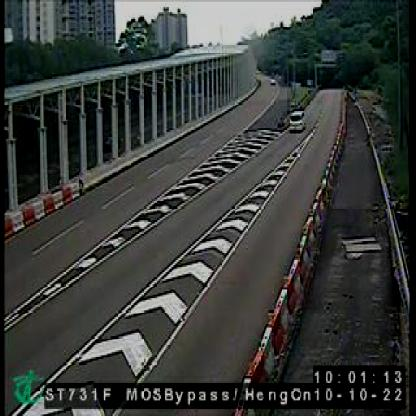Car: (290, 110, 307, 130)
